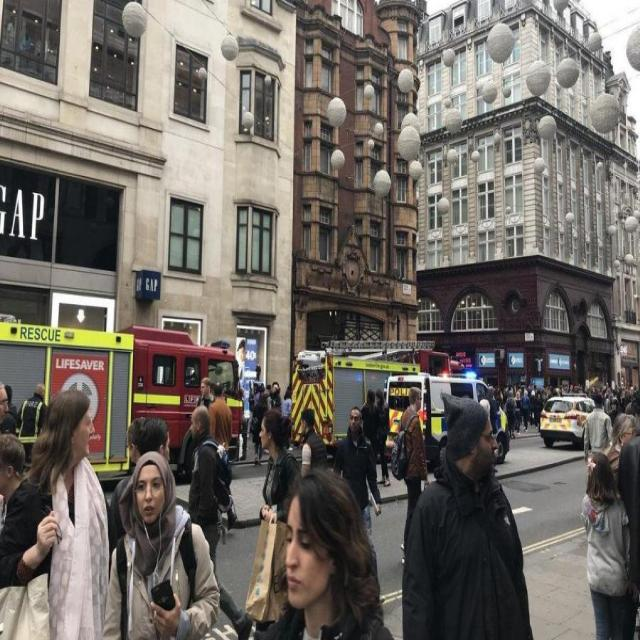body: (400, 390, 535, 640), (0, 385, 122, 639), (238, 470, 397, 640), (98, 448, 223, 639), (185, 404, 254, 640), (332, 404, 386, 608), (579, 449, 633, 639), (107, 415, 172, 551), (390, 386, 430, 565), (258, 408, 304, 526), (495, 383, 640, 416), (247, 379, 296, 464), (13, 380, 50, 467), (208, 380, 234, 471), (606, 412, 637, 487), (616, 429, 638, 534), (298, 406, 328, 479), (584, 391, 614, 462), (358, 387, 384, 463), (0, 432, 25, 501), (374, 388, 390, 488), (136, 416, 173, 451), (194, 376, 215, 410), (485, 385, 499, 435), (505, 388, 516, 439), (512, 390, 522, 436), (0, 382, 10, 428), (521, 387, 531, 432)
